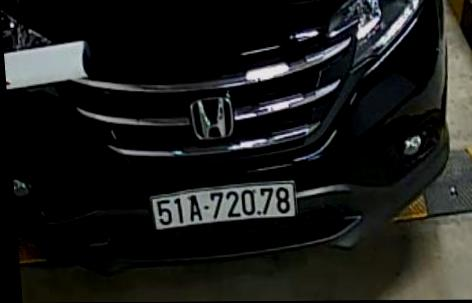License_Plate: (148, 177, 307, 228)
